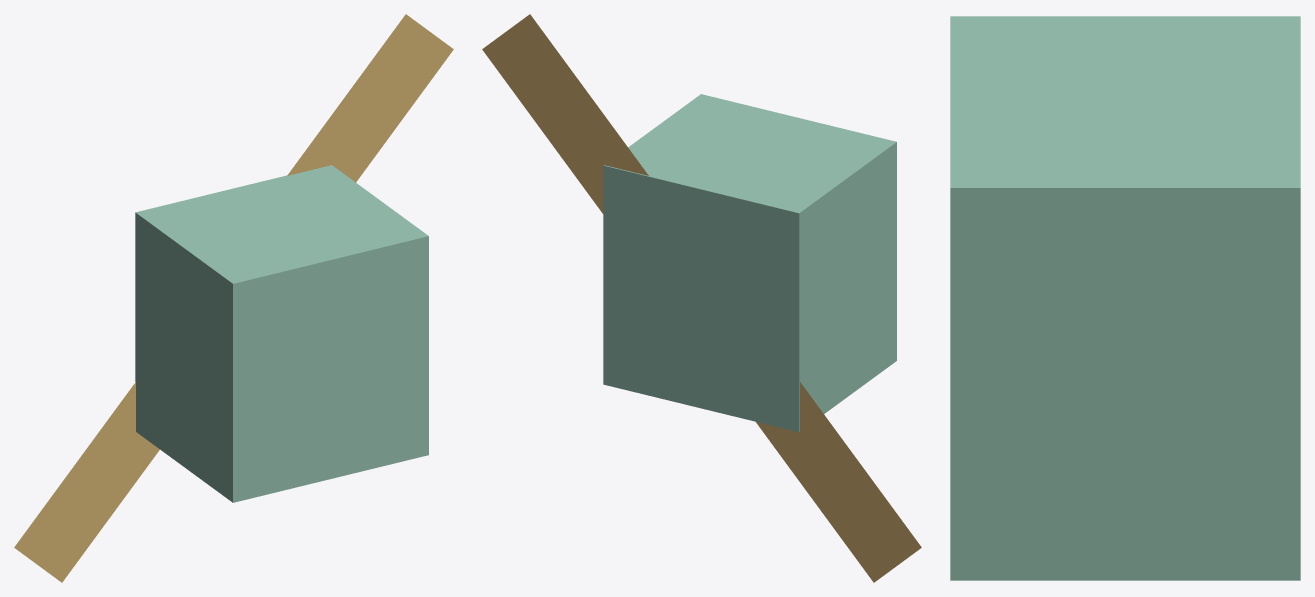
Rendered from centro-openstreetmap.glb.
3 views of the same model, side by side, from view 1: azimuth 30°, elevation 25°; view 2: azimuth 150°, elevation 25°; view 3: azimuth 270°, elevation 25° (orthographic). The views are drawn at different scales.
Parts seen in each view (by area): view 1: building-101, roads-primary; view 2: building-101, roads-primary; view 3: building-101.
Part boxes in pixels (x1=…): building-101: x1=135, y1=165, x2=428, y2=502; roads-primary: x1=14, y1=14, x2=453, y2=582; building-101: x1=603, y1=94, x2=896, y2=432; roads-primary: x1=482, y1=14, x2=921, y2=582; building-101: x1=950, y1=16, x2=1300, y2=580.
Size of the model in its own units: 46.79 by 49.31 by 18.
